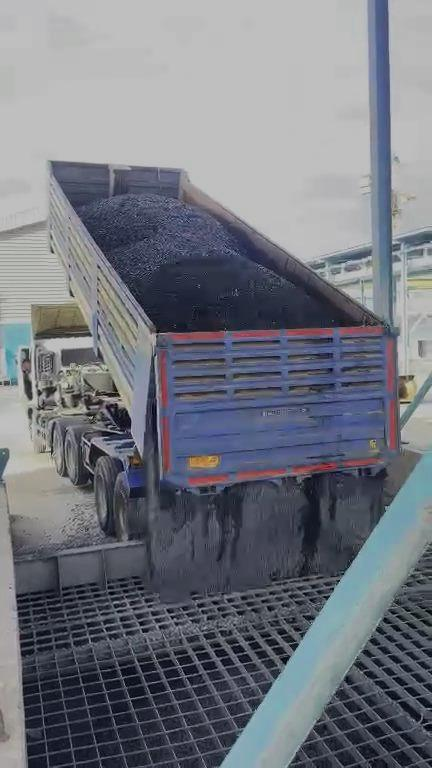gravel: (80, 195, 342, 331), (136, 475, 384, 602)
